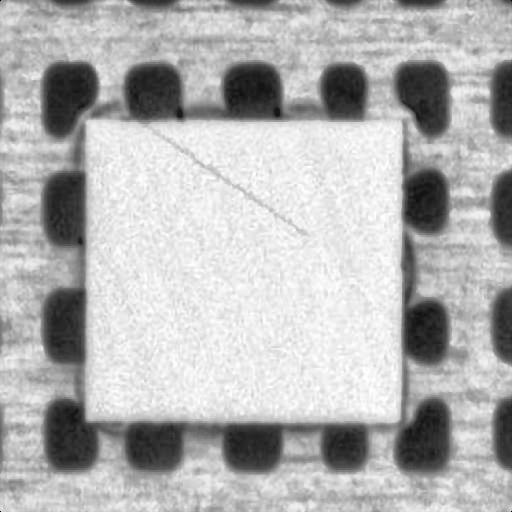DIE_CRACK: (186, 90, 406, 176)
